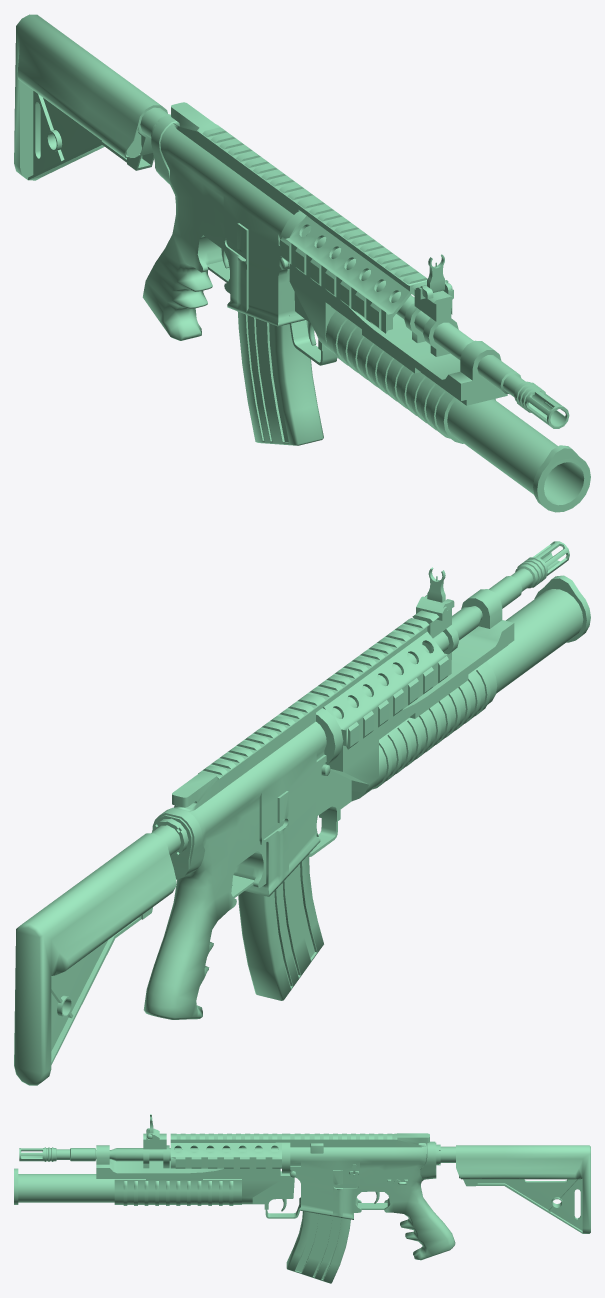
The picture shows the model from 3 angles, top to bottom: view 1: azimuth 30°, elevation 25°; view 2: azimuth 150°, elevation 25°; view 3: azimuth 270°, elevation 25°; orthographic projection. The views are drawn at different scales.
Parts seen in each view (by area): view 1: M4A1_Gun, M4A1_Granade; view 2: M4A1_Gun, M4A1_Granade; view 3: M4A1_Gun, M4A1_Granade.
Part boxes in pixels (x1,y1,x2,y2): M4A1_Gun: [14, 14, 569, 445]; M4A1_Granade: [289, 264, 590, 512]; M4A1_Gun: [14, 541, 569, 1085]; M4A1_Granade: [309, 575, 590, 856]; M4A1_Gun: [19, 1114, 590, 1283]; M4A1_Granade: [14, 1145, 300, 1218].
Bounding box in the file's own units: 7.2 × 30.73 × 97.5.
